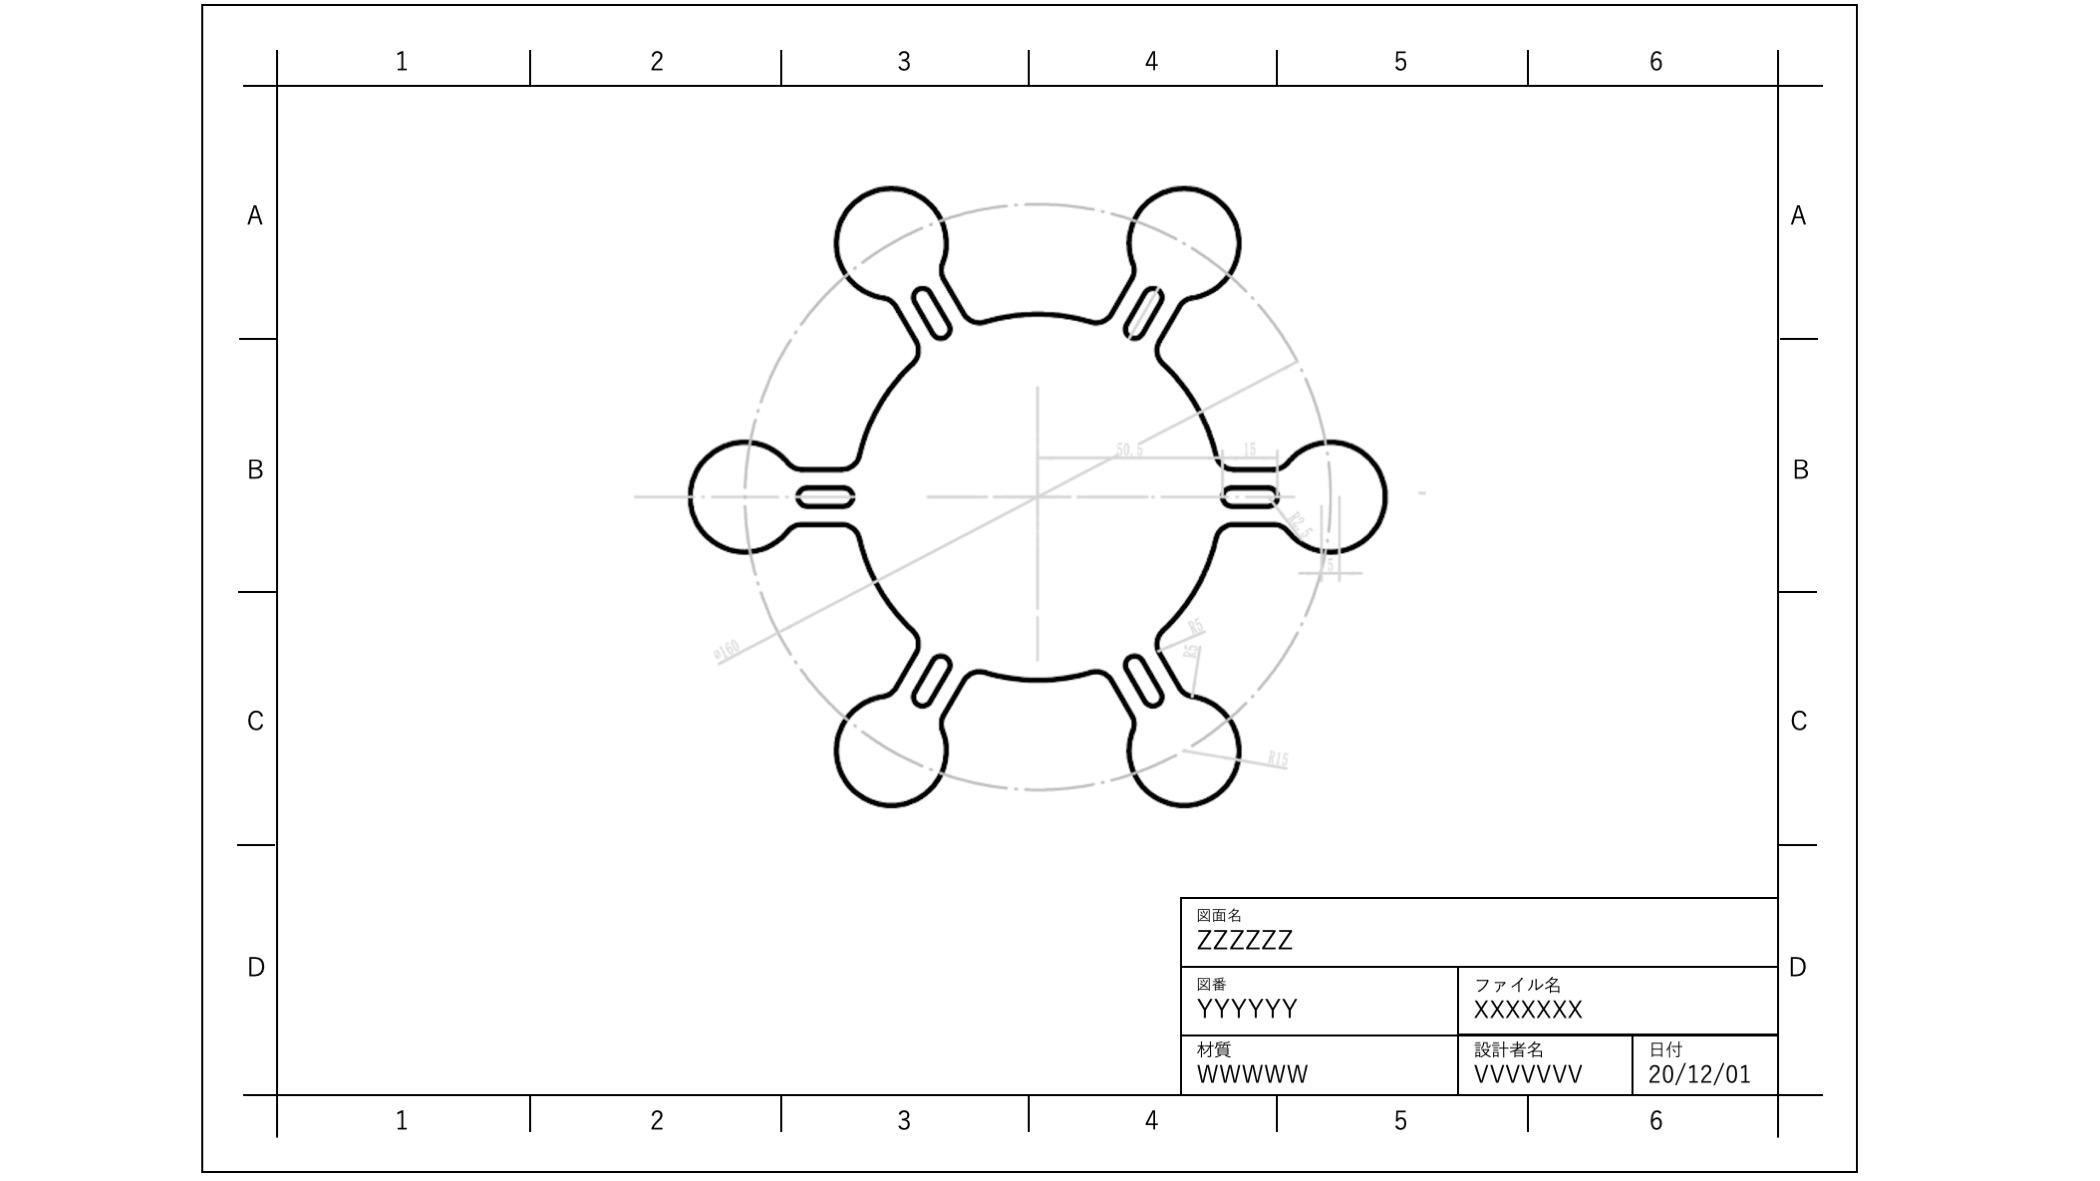round_rectangle: (1106, 643, 1183, 717), (899, 640, 963, 717), (906, 283, 959, 346), (1217, 470, 1288, 512), (1121, 283, 1164, 350), (783, 477, 862, 510)
